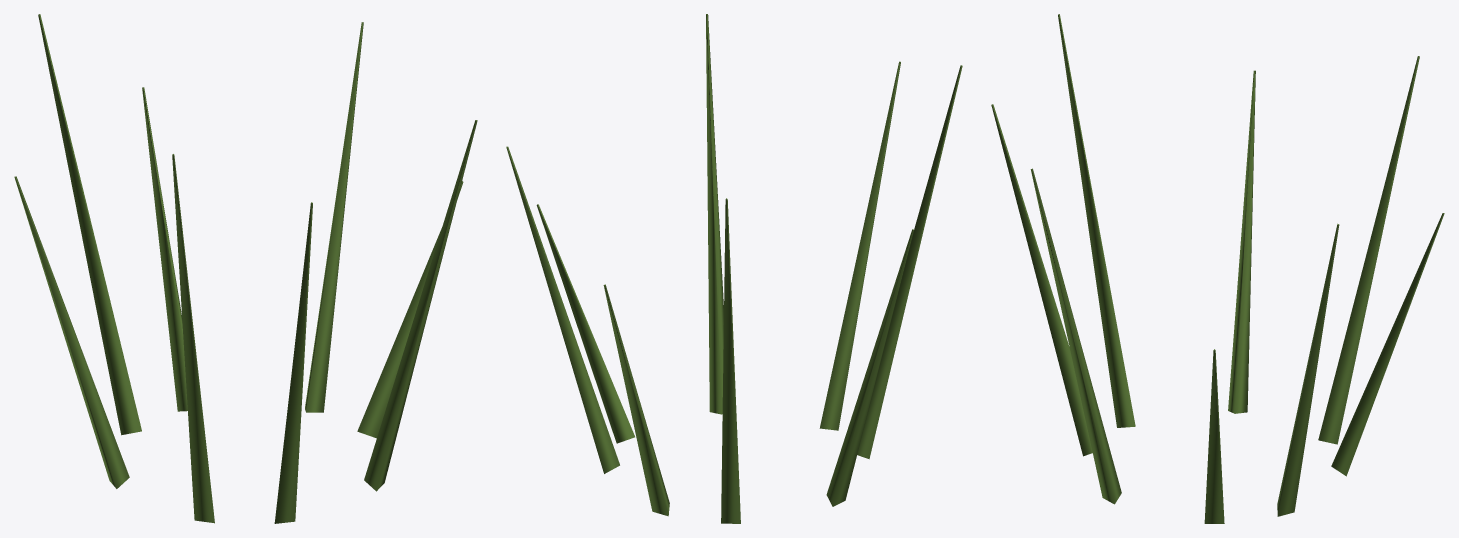
Rendered from grass-tuft.glb.
The picture shows the model from 3 angles, left to right: view 1: azimuth 30°, elevation 25°; view 2: azimuth 150°, elevation 25°; view 3: azimuth 270°, elevation 25°; orthographic projection. The views are drawn at different scales.
Visible parts, largest first — view 1: grass-tuft__grass; view 2: grass-tuft__grass; view 3: grass-tuft__grass.
Boxes of the visible parts, x1=… form: grass-tuft__grass: x1=14, y1=14, x2=477, y2=523; grass-tuft__grass: x1=506, y1=14, x2=962, y2=523; grass-tuft__grass: x1=991, y1=14, x2=1444, y2=523.
Size of the model in its own units: 0.3583 by 0.3295 by 0.3544.
